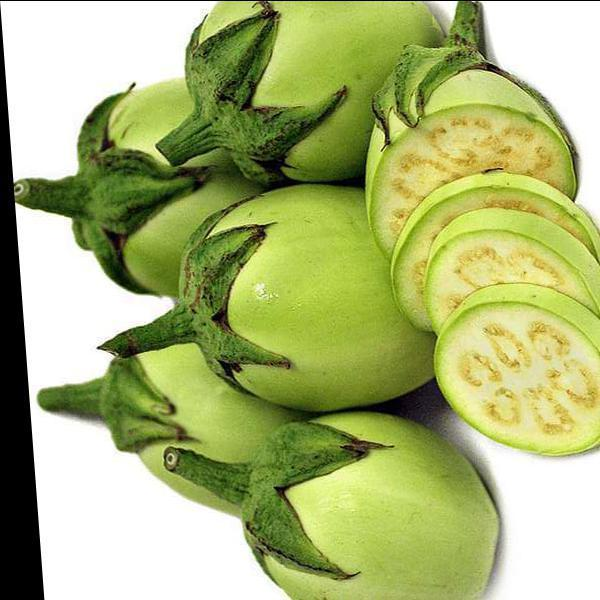eggplant: (61, 11, 582, 593)
